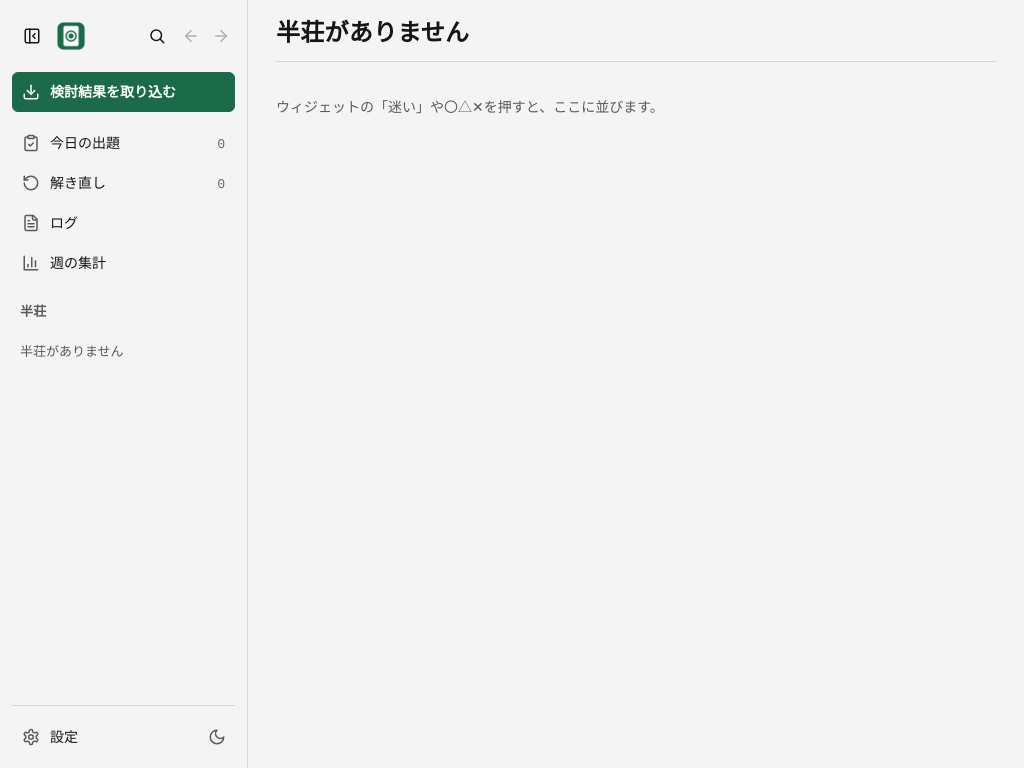
Test: 牌譜リンクを待つ（E-15） › クリップボードを読めなければ、その理由を出す
Step 1. Click the button "検討結果を取り込む" → (124, 92), box [12, 72, 235, 112]
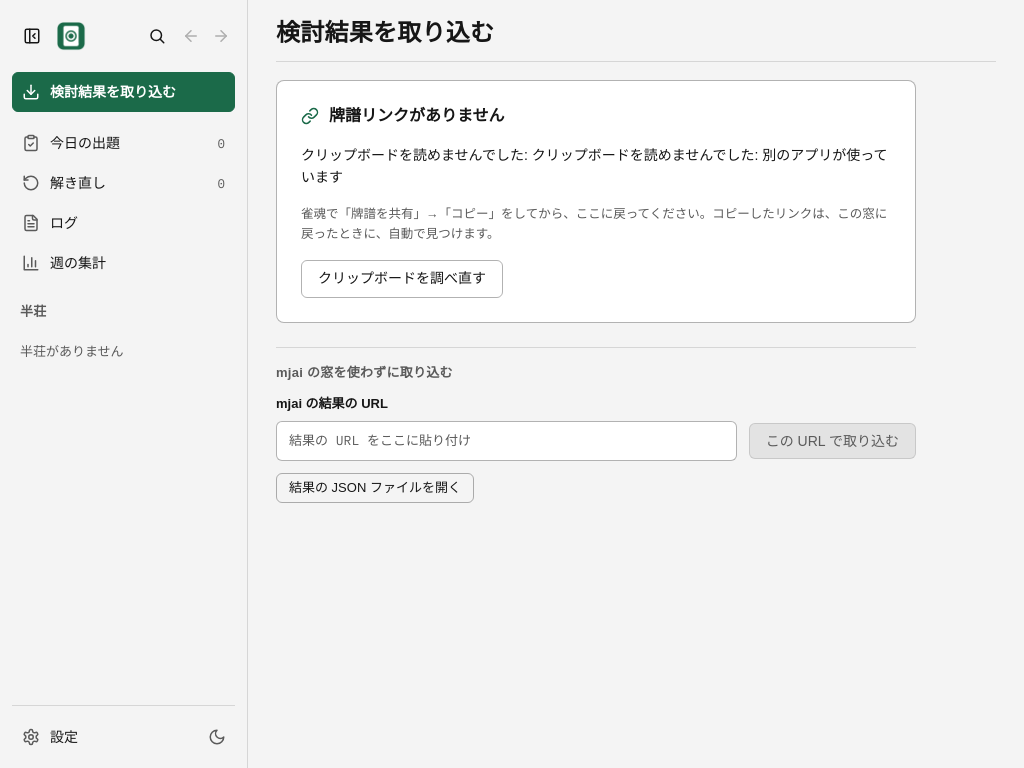
Check: the heading "検討結果を取り込む" is shown, box [276, 18, 494, 49]
Check: the text "クリップボードを読めませんでした: クリップボードを読めませんでした: 別のアプリが使っています" is shown, box [301, 144, 891, 188]
